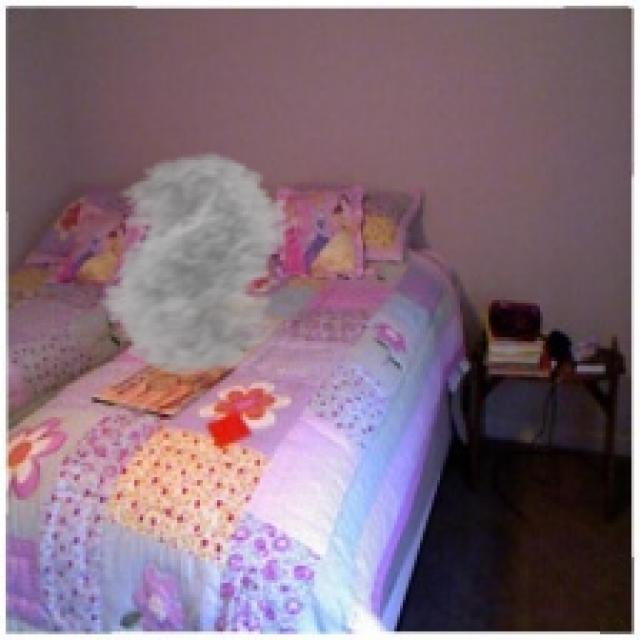Smoke: (83, 152, 314, 378)
